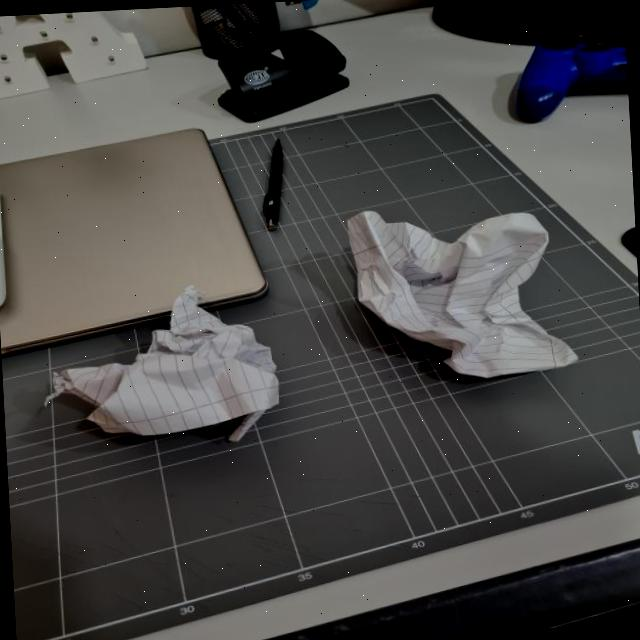trash: (349, 198, 573, 390), (52, 292, 281, 450)
